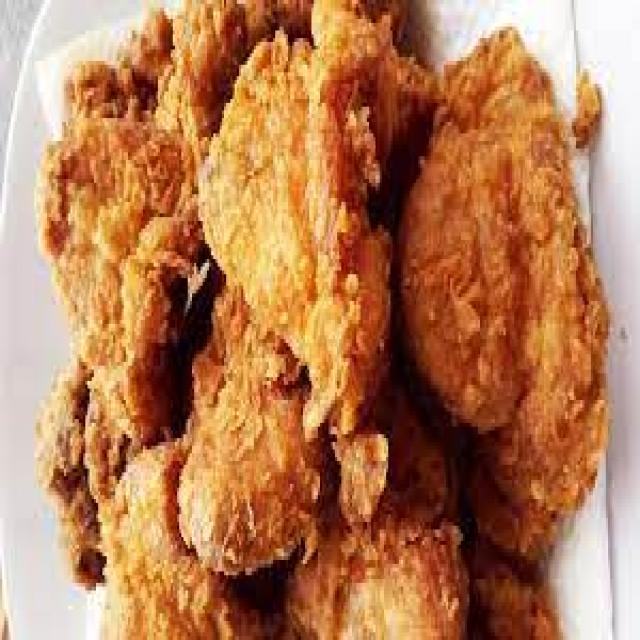Frango: (413, 67, 608, 586), (171, 25, 393, 454), (66, 44, 205, 411), (257, 478, 454, 640), (182, 300, 315, 538), (119, 469, 268, 640)
